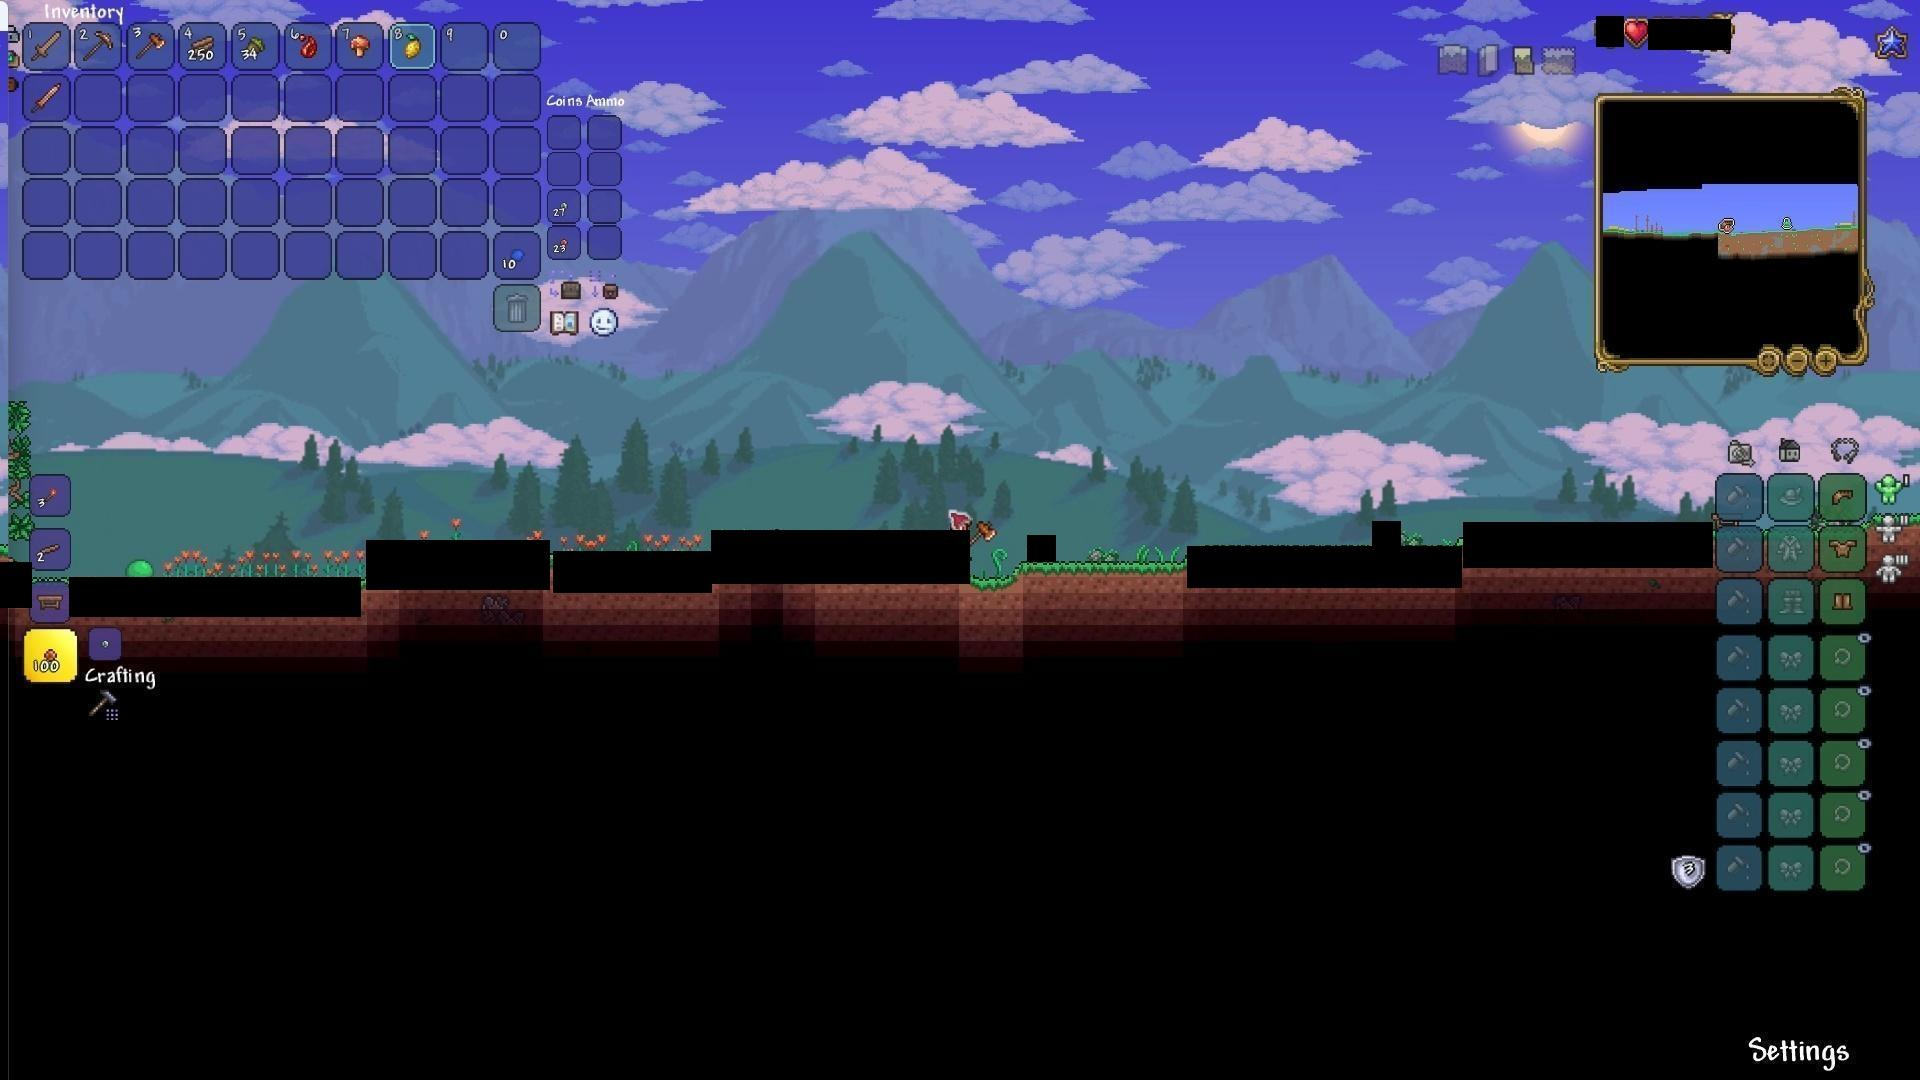breastplate: (1830, 538, 1859, 559)
dirt: (973, 559, 1191, 593)
heart: (1625, 18, 1652, 49)
helmet: (1828, 483, 1859, 510)
legs: (1832, 588, 1855, 616)
slime: (123, 558, 157, 583)
wood: (189, 33, 218, 61)
workbench: (32, 589, 69, 615)
